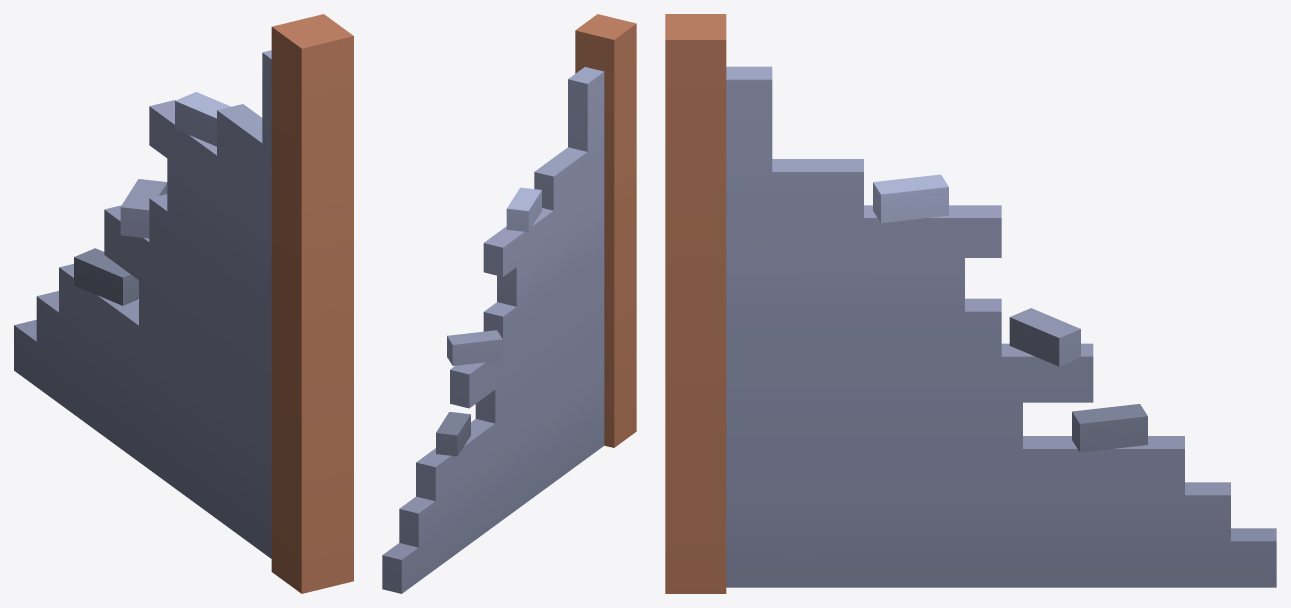
Rendered from wall-broken.glb.
The picture shows the model from 3 angles, left to right: view 1: azimuth 30°, elevation 25°; view 2: azimuth 150°, elevation 25°; view 3: azimuth 270°, elevation 25°; orthographic projection. The views are drawn at different scales.
Parts seen in each view (by area): view 1: wall-broken; view 2: wall-broken; view 3: wall-broken.
Part boxes in pixels (<box>): wall-broken: <box>14,14,353,593</box>; wall-broken: <box>382,14,636,593</box>; wall-broken: <box>665,14,1276,593</box>.
Size of the model in its own units: 0.1167 by 1 by 1.
Materials: 1 (1 with a texture image).
